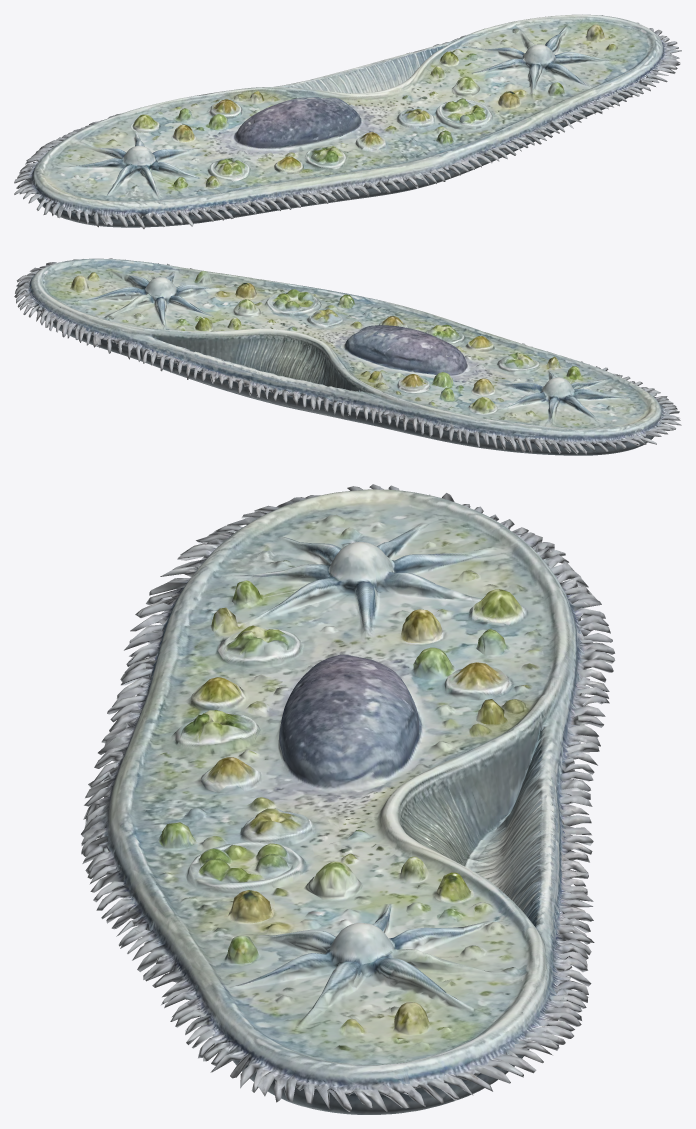
File: paramecium.glb
3 renders of one model, top to bottom at view 1: azimuth 30°, elevation 25°; view 2: azimuth 150°, elevation 25°; view 3: azimuth 270°, elevation 25°, orthographic. The views are drawn at different scales.
Parts seen in each view (by area): view 1: tripo_node_a2a243f1-9575-4a93-b906-bb8d557db5f6; view 2: tripo_node_a2a243f1-9575-4a93-b906-bb8d557db5f6; view 3: tripo_node_a2a243f1-9575-4a93-b906-bb8d557db5f6.
Boxes of the visible parts, x1,y1,x2,y2 form: tripo_node_a2a243f1-9575-4a93-b906-bb8d557db5f6: (14,14,681,228); tripo_node_a2a243f1-9575-4a93-b906-bb8d557db5f6: (14,258,681,455); tripo_node_a2a243f1-9575-4a93-b906-bb8d557db5f6: (81,484,615,1114).
Size of the model in its own units: 0.9777 by 0.0957 by 0.3514.
1 material, 1 textured.
